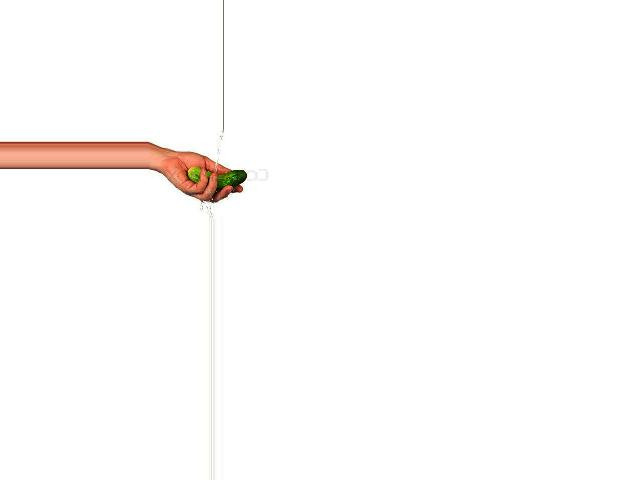cucumber: (187, 167, 246, 189)
